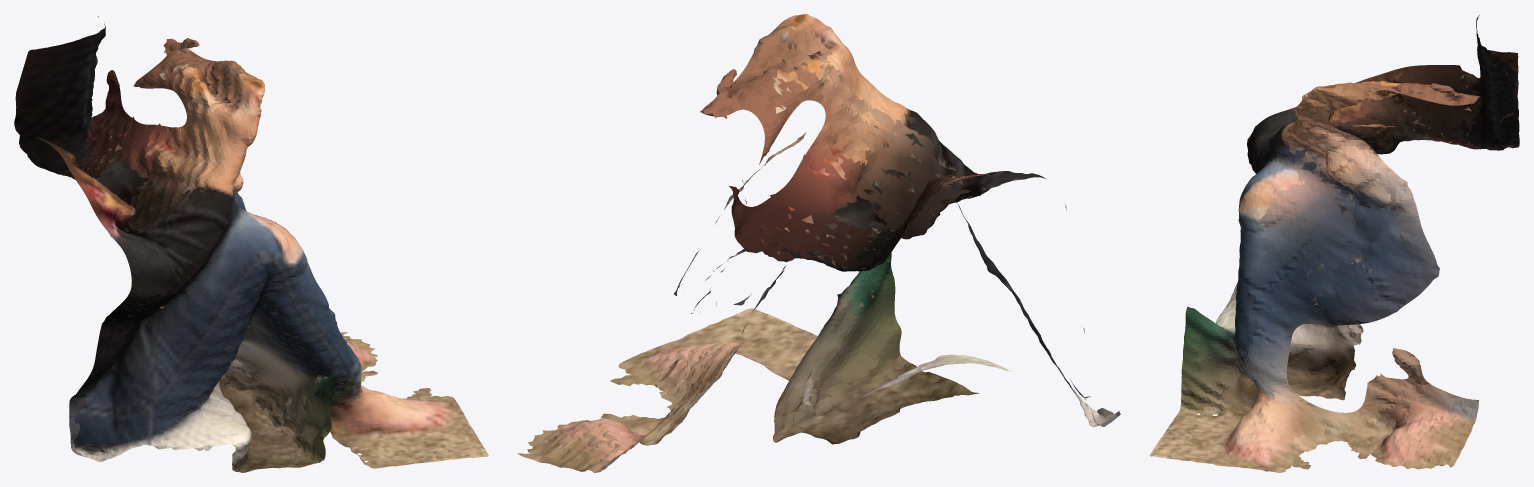
3 renders of one model, left to right at view 1: azimuth 30°, elevation 25°; view 2: azimuth 150°, elevation 25°; view 3: azimuth 270°, elevation 25°, orthographic. The views are drawn at different scales.
Size of the model in its own units: 0.7454 by 0.6326 by 0.6686.
1 material, 1 textured.
